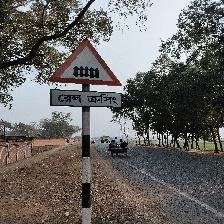Rail-crossing: (48, 39, 124, 108)
